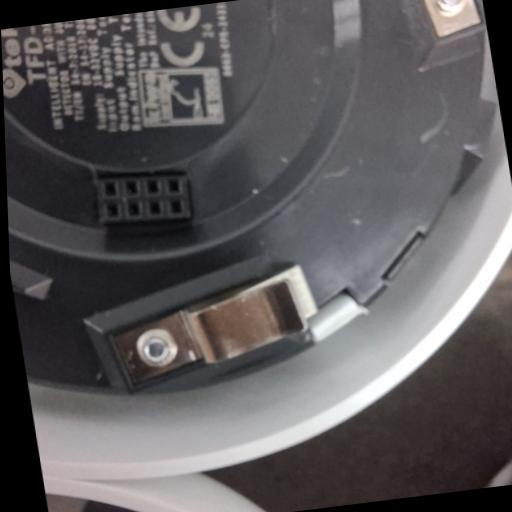yayli: (86, 260, 328, 399)
